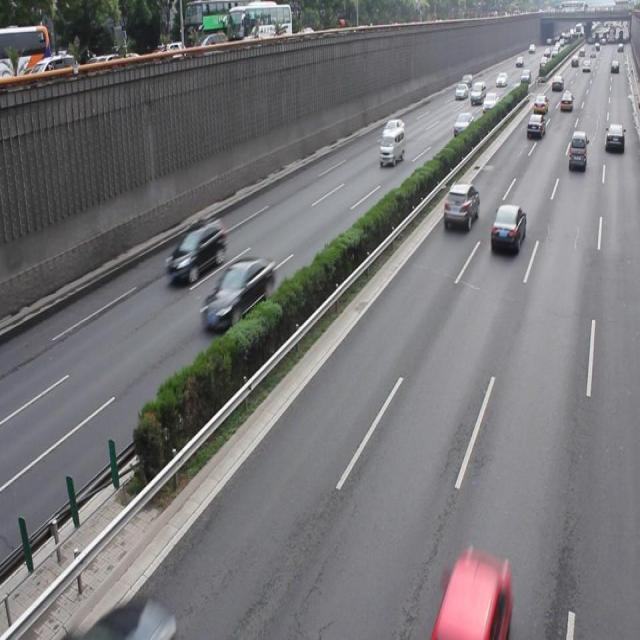car: (202, 254, 273, 330), (166, 216, 226, 286), (442, 179, 479, 230), (489, 202, 525, 252)
truck: (379, 127, 403, 167), (568, 130, 586, 172)
